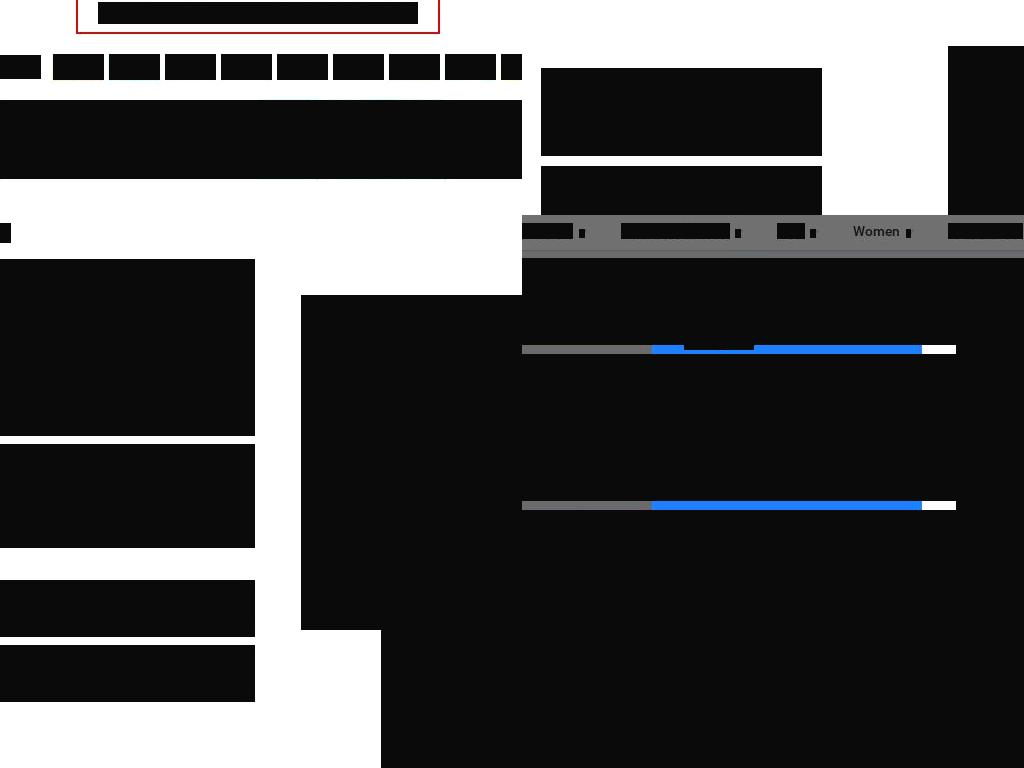button: (522, 510, 1024, 768), (522, 354, 1024, 501), (258, 100, 522, 179), (0, 100, 258, 179), (0, 580, 255, 637), (0, 645, 255, 702), (98, 2, 418, 24), (956, 474, 1024, 522), (956, 573, 1024, 621)
field: (956, 330, 1024, 368), (956, 402, 1024, 440), (0, 55, 41, 79)
heading: (0, 259, 255, 436), (541, 68, 822, 156)
iframe: (381, 553, 522, 768)
image: (522, 510, 1024, 768), (301, 295, 522, 630), (522, 355, 1024, 500), (522, 258, 1024, 345), (259, 101, 445, 178), (309, 101, 445, 178), (53, 54, 104, 80), (109, 54, 160, 80), (165, 54, 216, 80), (221, 54, 272, 80), (277, 54, 328, 80), (333, 54, 384, 80), (389, 54, 440, 80), (445, 54, 496, 80), (501, 54, 522, 80), (579, 229, 585, 238), (735, 229, 741, 238), (810, 229, 816, 238), (906, 229, 911, 238)
text: (0, 444, 255, 548), (684, 372, 888, 447), (541, 166, 822, 215), (9, 102, 247, 140), (456, 102, 522, 140), (684, 317, 754, 350), (621, 223, 730, 239), (956, 323, 1024, 342), (956, 413, 1024, 432), (956, 538, 1024, 557), (948, 223, 1023, 239), (9, 100, 48, 121), (456, 100, 495, 121), (522, 223, 573, 239), (852, 223, 900, 239), (777, 223, 805, 239)
